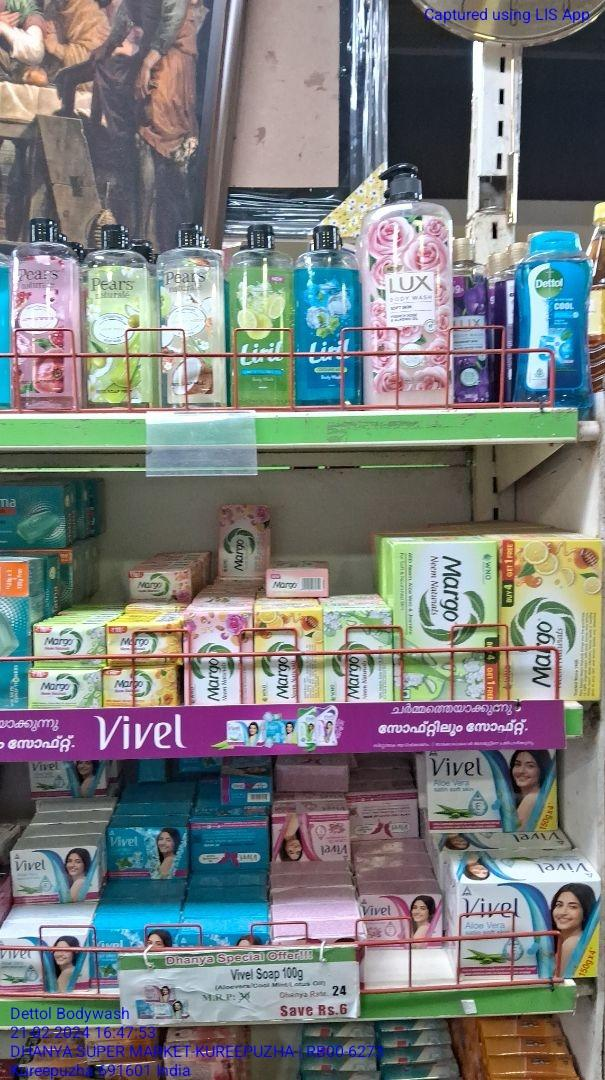Dettol_Bodywash_Cool: (509, 229, 595, 408)
Liril_Cooling_Mint_Body_Wash_250ML: (292, 224, 360, 406)
Liril_Lime_and_Tea_Tree_Oil_Body_Wash_250ML: (229, 223, 293, 406)
Pears_Naturale_Aloe_Vera_Body_Wash_250ML: (79, 222, 154, 407)
